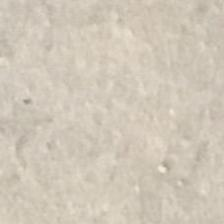Non_Crack: (8, 10, 222, 222)
